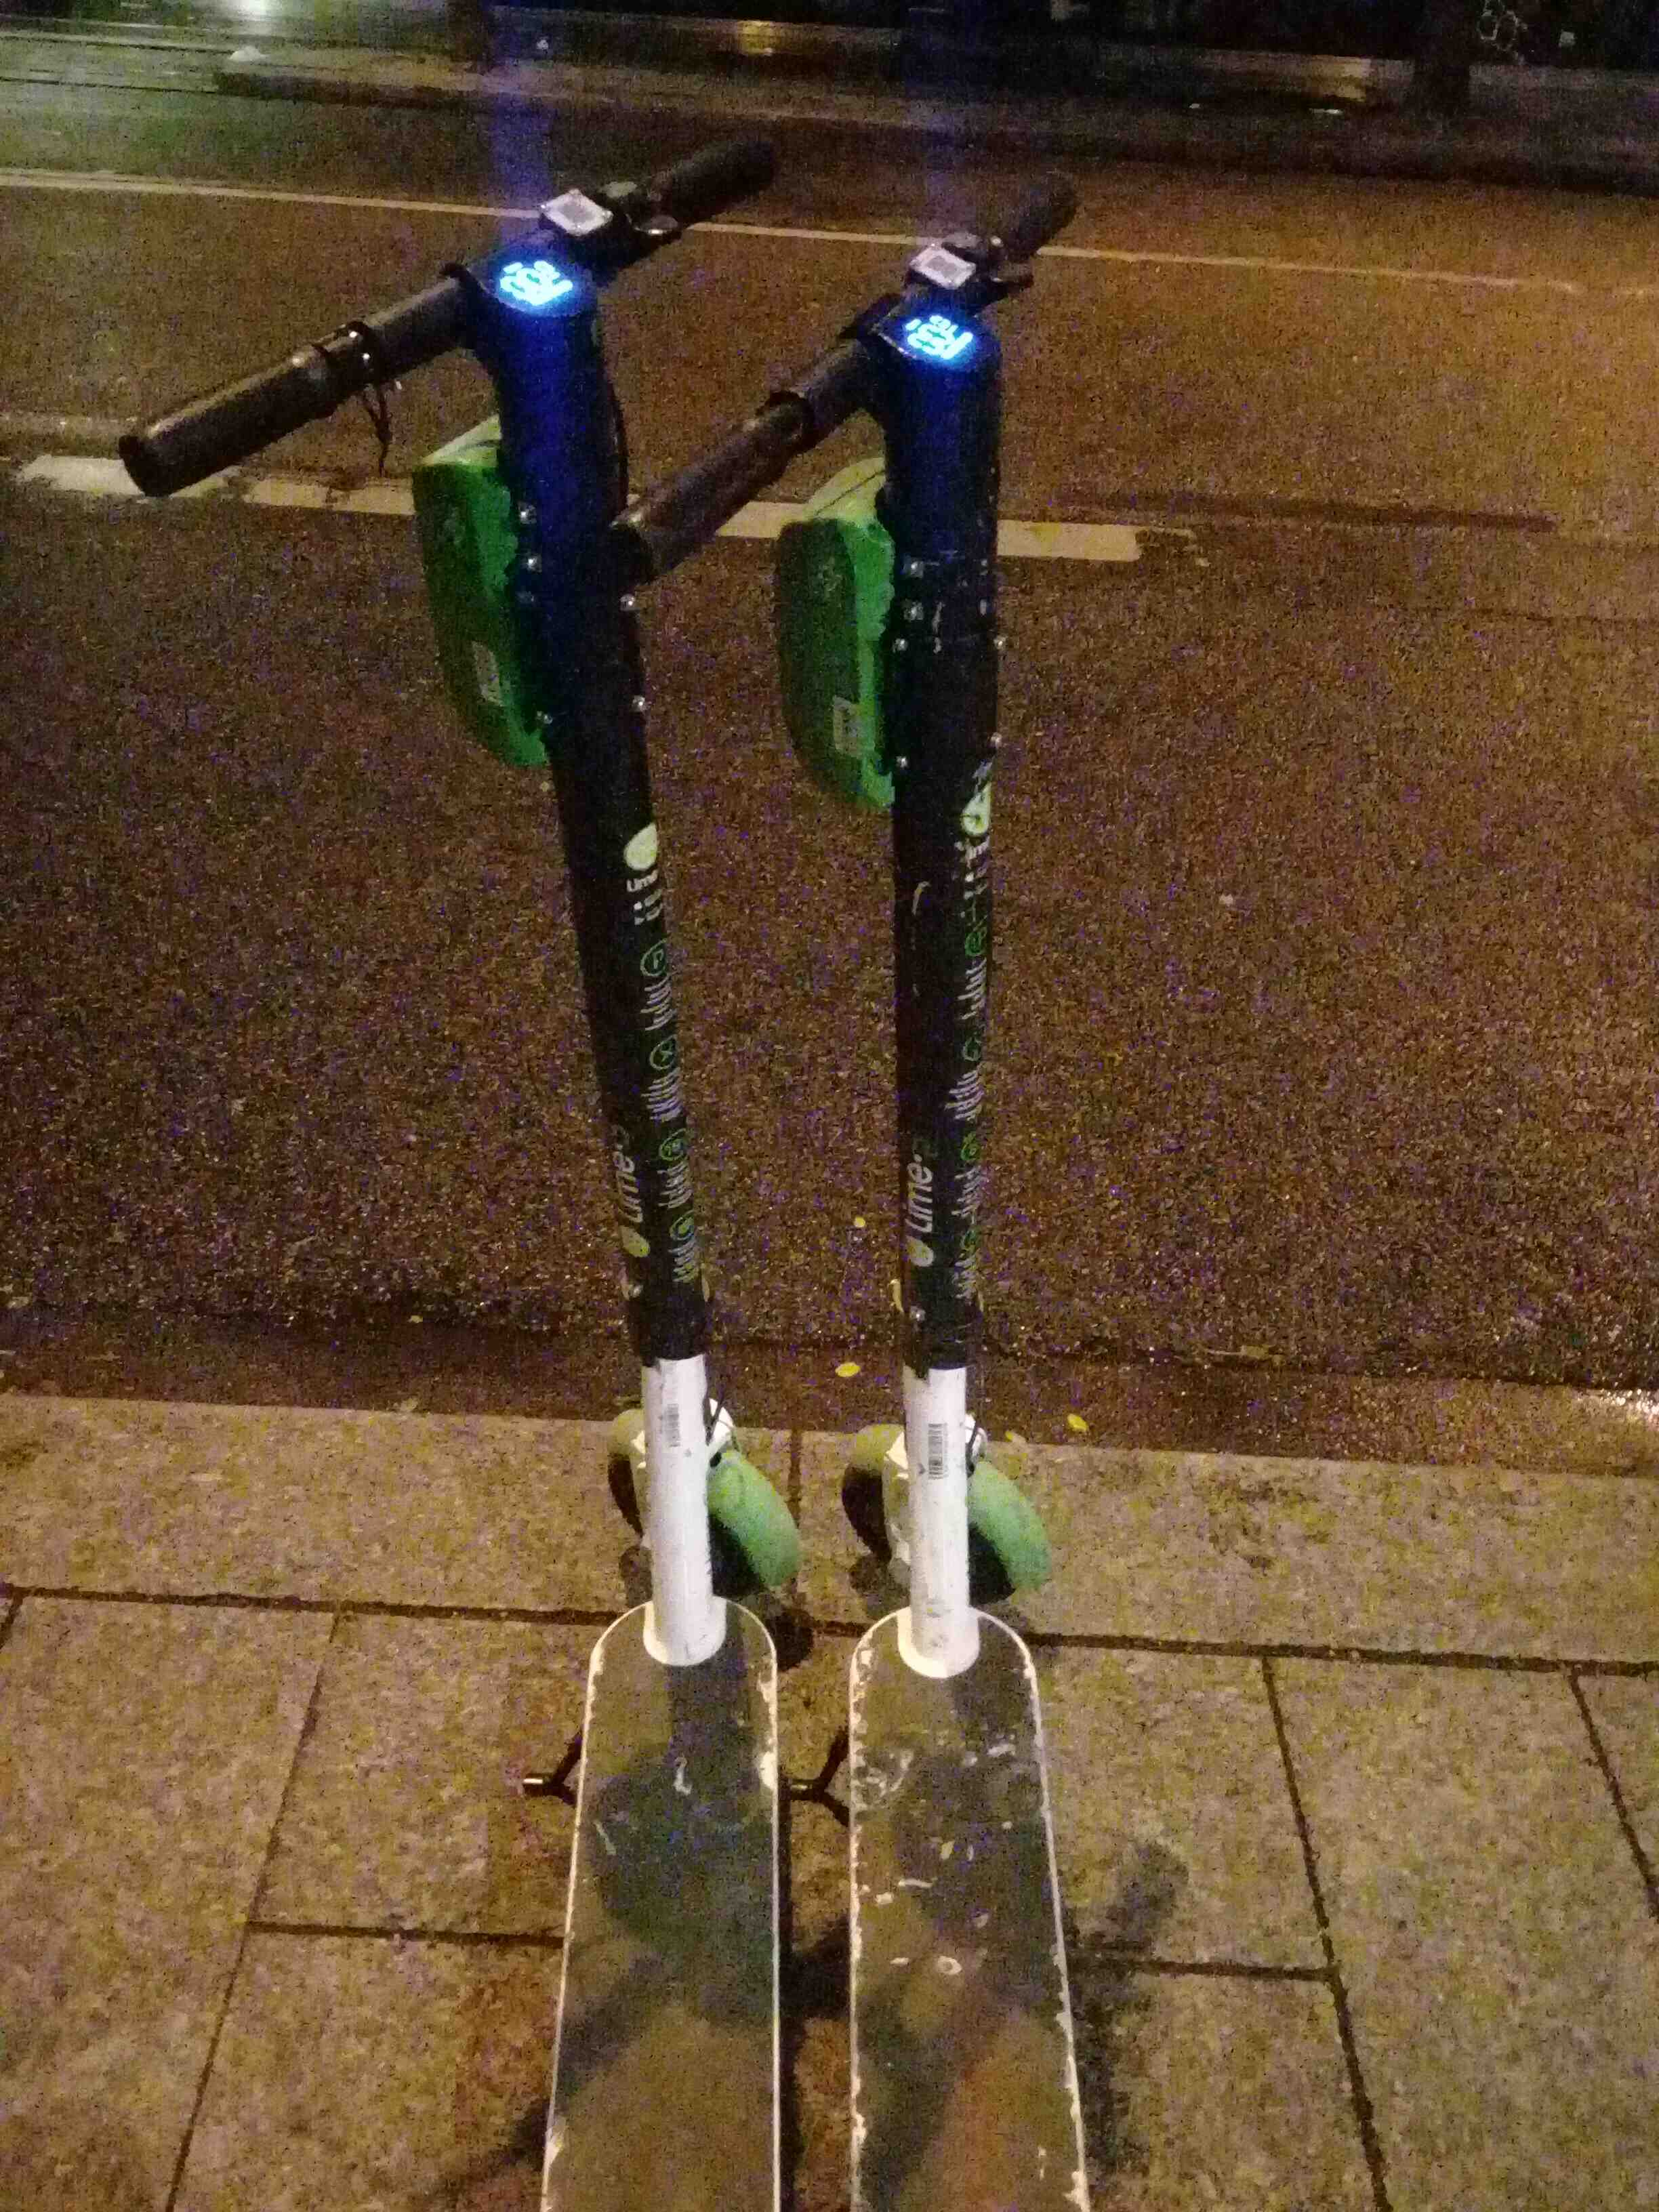too close: (516, 1287, 835, 1735), (814, 1318, 1082, 1759)
